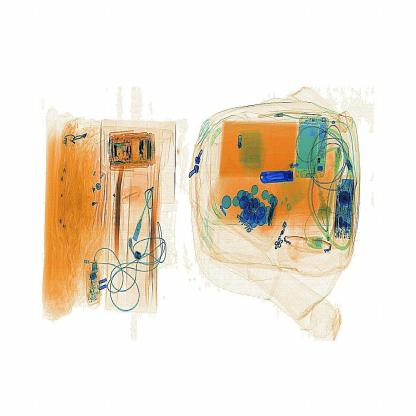knife: (255, 162, 300, 193)
